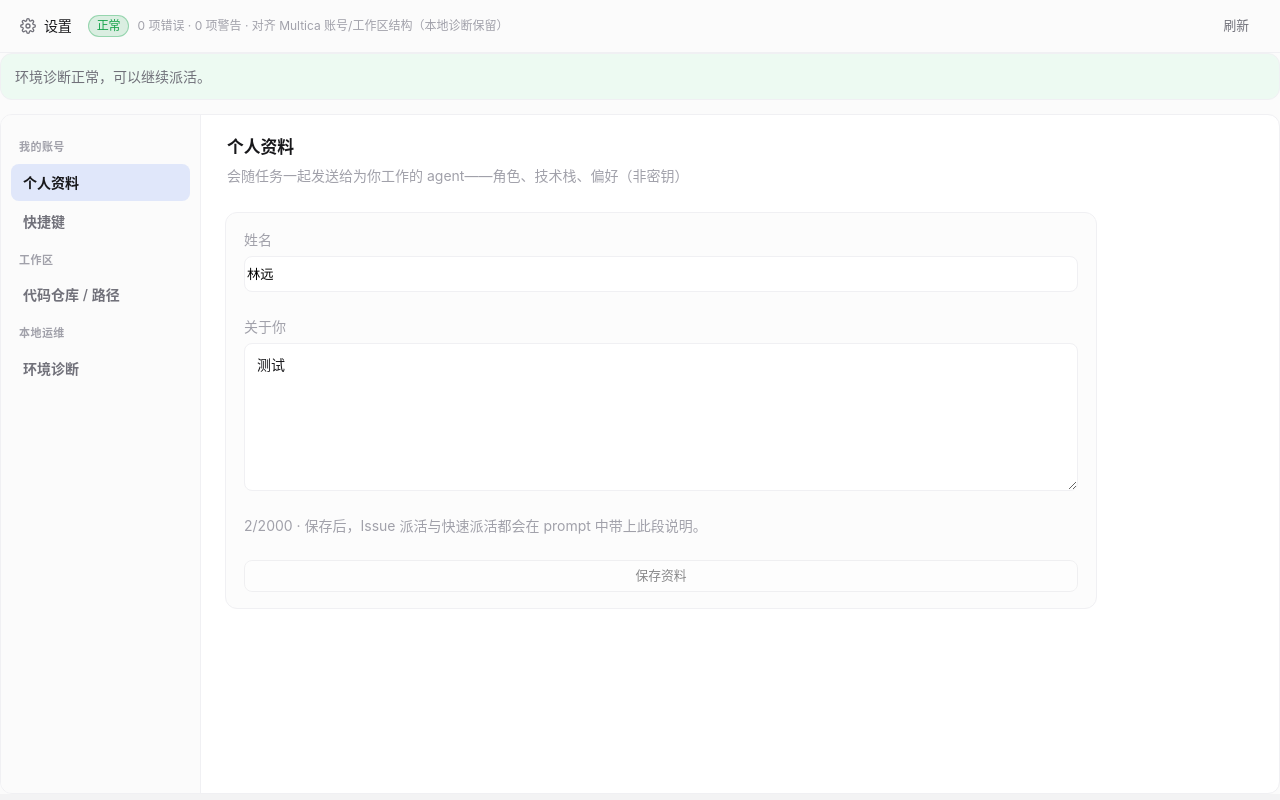
Test case: SettingsPage › 未设上限（maxConcurrentRuns=null）→ 只显示在途数
Step 1. Click the button with test id "settings-nav-health" → (100, 368), box x1=11 y1=350 x2=190 y2=386
(page scrolled)
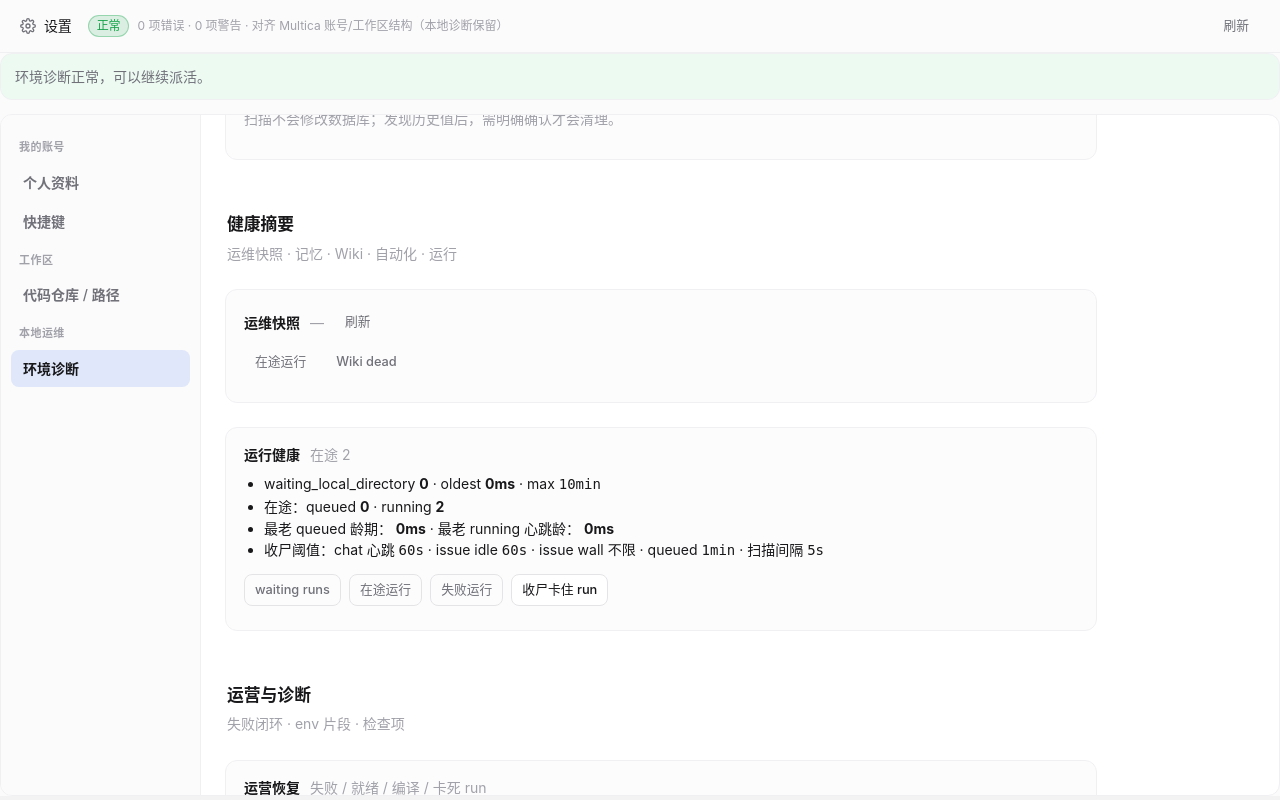
Expected: the element with test id "settings-run-health-inflight" does not show "/"
Result: the text with test id "settings-run-health-inflight" reads "在途 2" at x1=310 y1=444 x2=350 y2=465
